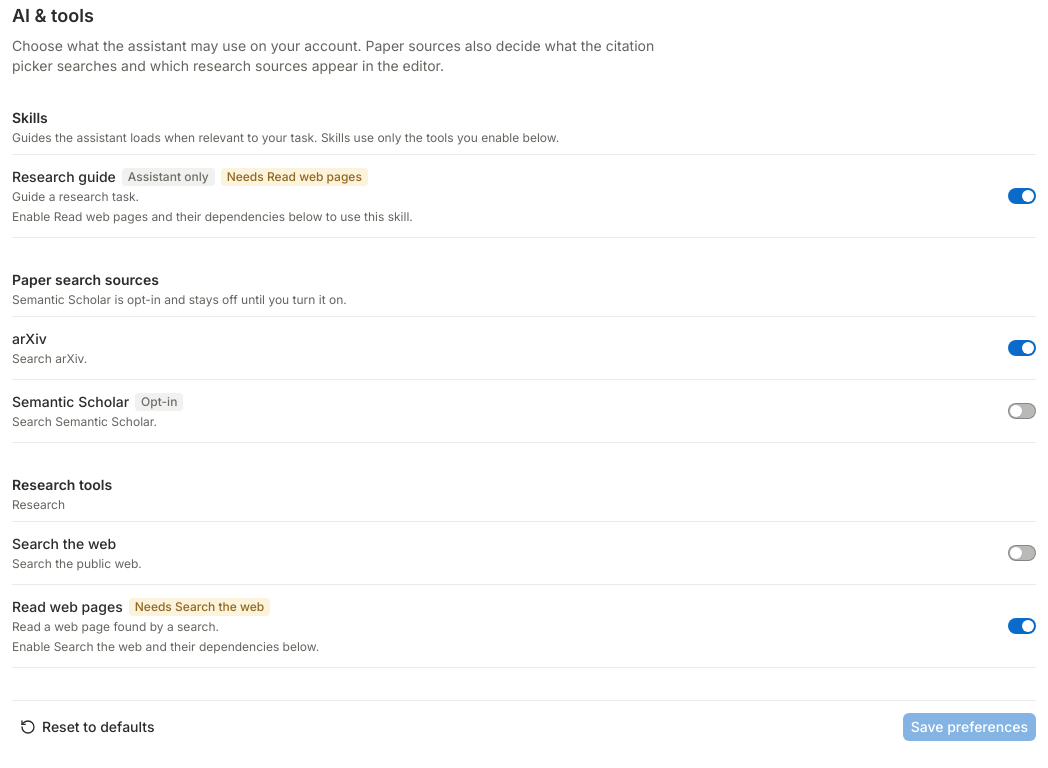
Test: dependency availability › propagates draft tool and source dependencies through tools and skills
The image size is (1048, 768).
Expected: the text "Needs Search the web" is shown, [129,598,270,616]
Expected: the text "Needs Read web pages" is shown, [221,168,368,186]
Click the switch named "Search the web" in the row of "Search the public web.": (1022,553) [1008,545,1036,561]
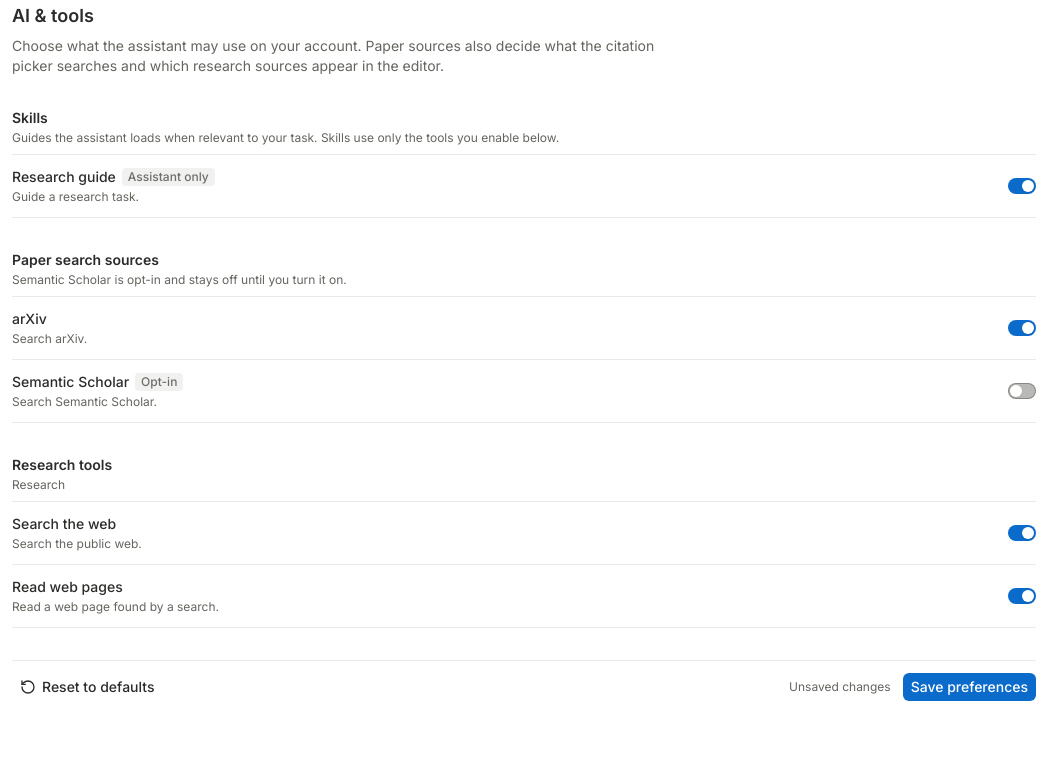
Now the text "Needs " is gone
Click the switch named "arXiv" in the row of "Search arXiv.": (1022,328) [1008,320,1036,336]
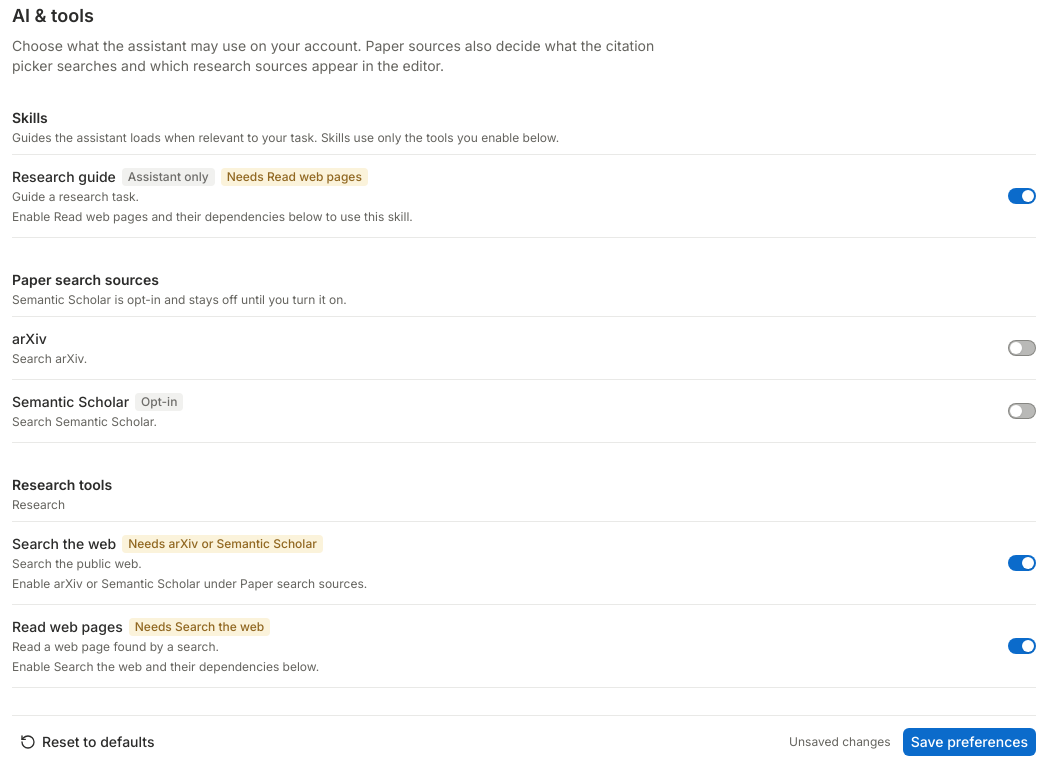
Now the text "Needs arXiv or Semantic Scholar" is shown, box [122,535,323,553]
Now the text "Needs Search the web" is shown, box [129,618,270,636]
Now the text "Needs Read web pages" is shown, box [221,168,368,186]
Click the switch named "Semantic Scholar Opt-in" in the row of "Search Semantic Scholar.": (1022,411) [1008,403,1036,419]
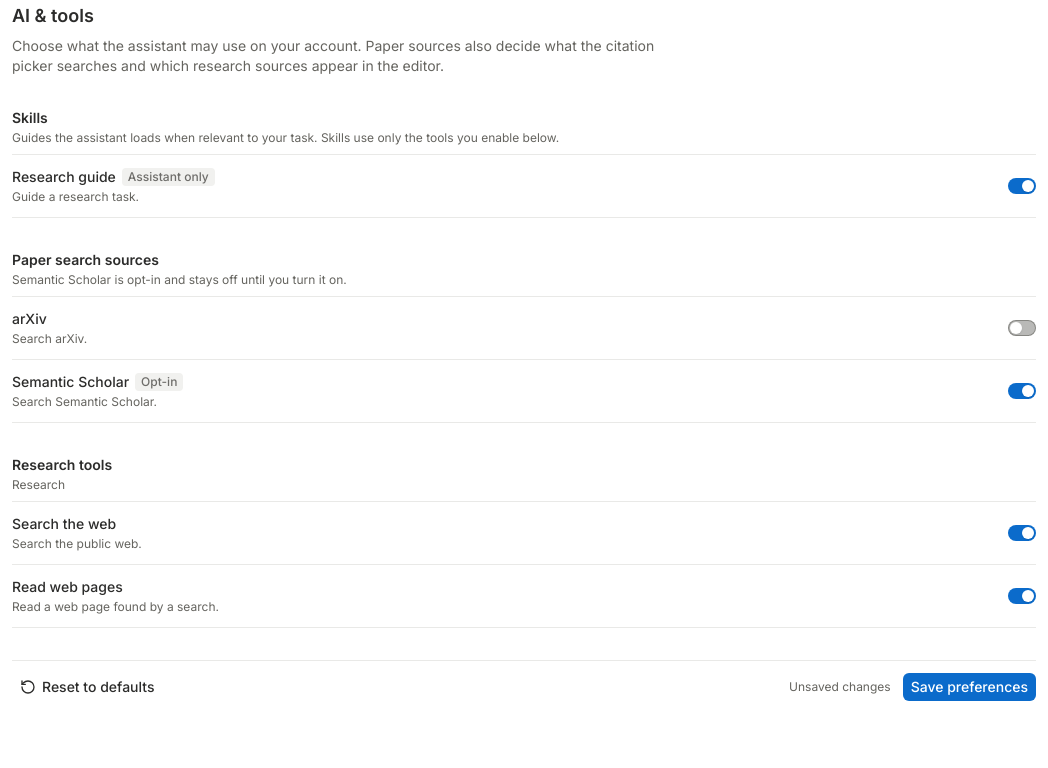
Now the text "Needs " is gone
